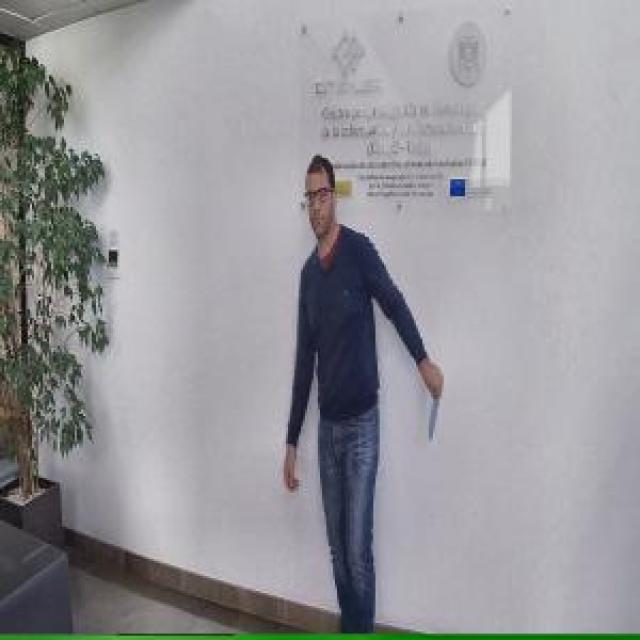knife: (424, 369, 445, 448)
